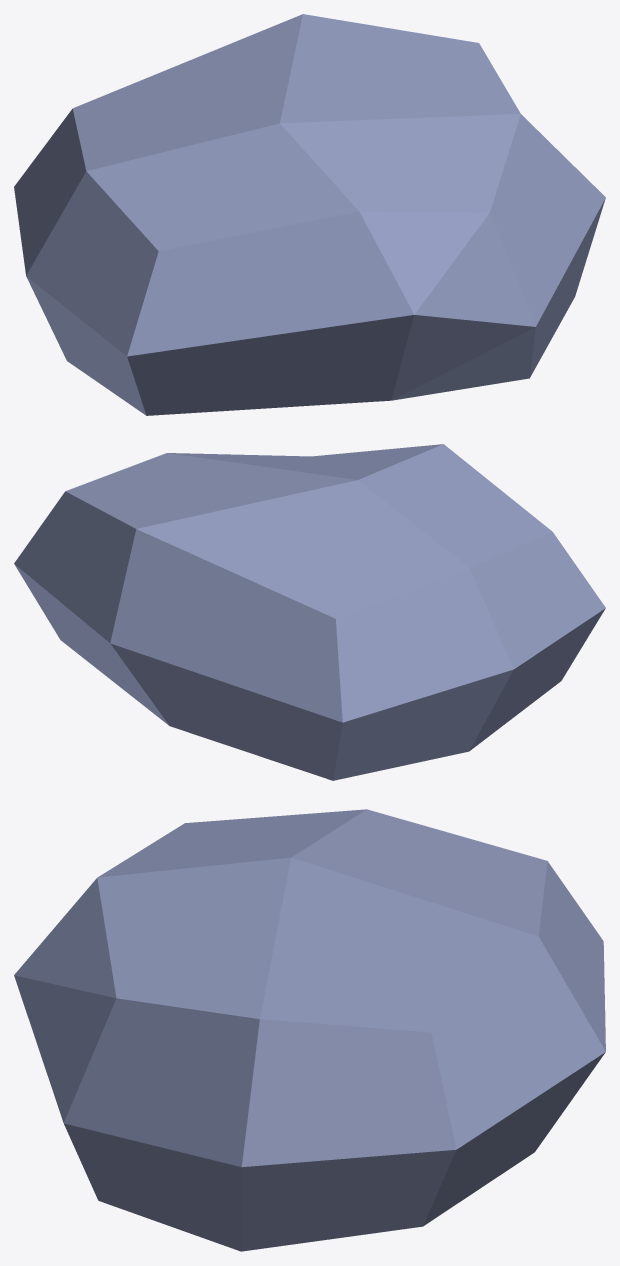
File: Stone_1.fbx
3 renders of one model, top to bottom at view 1: azimuth 30°, elevation 25°; view 2: azimuth 150°, elevation 25°; view 3: azimuth 270°, elevation 25°, orthographic. The views are drawn at different scales.
Visible parts, largest first — view 1: Stone_1; view 2: Stone_1; view 3: Stone_1.
Boxes of the visible parts, x1,y1,x2,y2 form: Stone_1: [14, 14, 605, 415]; Stone_1: [14, 444, 605, 780]; Stone_1: [14, 809, 605, 1251].
Bounding box in the file's own units: 1.12 × 0.4736 × 0.9934.
